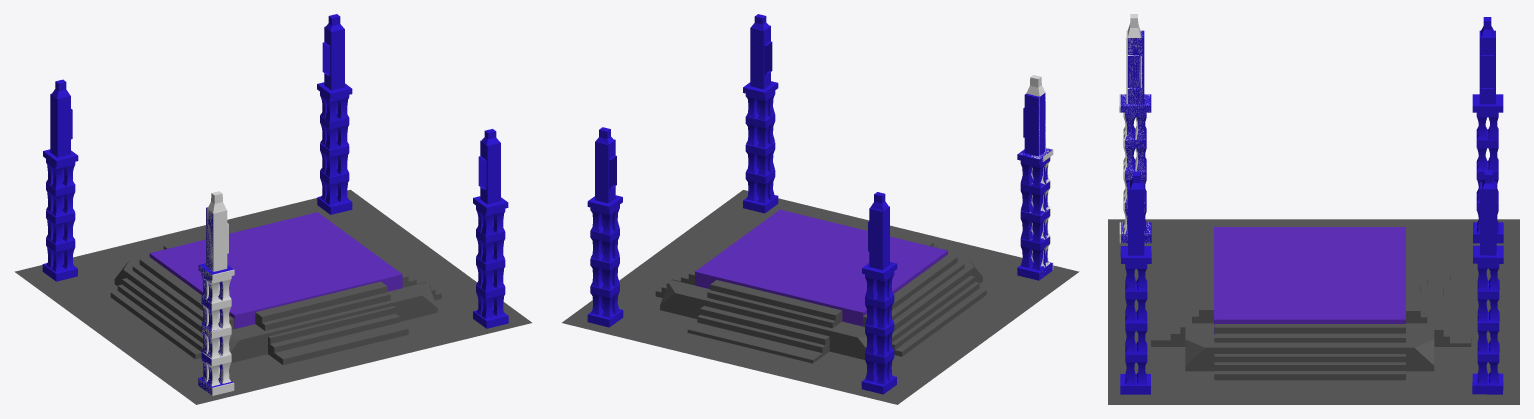
Rendered from BoxArenaWithColor.FBX.
3 views of the same model, side by side, from view 1: azimuth 30°, elevation 25°; view 2: azimuth 150°, elevation 25°; view 3: azimuth 270°, elevation 25° (orthographic). The views are drawn at different scales.
Visible parts, largest first — view 1: Plane001, Box002, Box001, Box010, Box009; view 2: Plane001, Box002, Box001, Box010, Box009; view 3: Plane001, Box002, Box001, Box010, Box009.
Boxes of the visible parts, x1,y1,x2,y2 form: Plane001: [14, 14, 531, 404]; Box002: [149, 212, 402, 328]; Box001: [114, 215, 437, 365]; Box010: [110, 214, 441, 359]; Box009: [42, 79, 78, 281]; Plane001: [562, 14, 1079, 404]; Box002: [695, 209, 947, 326]; Box001: [660, 212, 982, 363]; Box010: [655, 212, 986, 356]; Box009: [861, 192, 897, 394]; Plane001: [1108, 14, 1519, 404]; Box002: [1214, 226, 1405, 334]; Box001: [1151, 230, 1471, 371]; Box010: [1214, 225, 1405, 380]; Box009: [1472, 17, 1503, 243].
Size of the model in its own units: 160 by 89.94 by 150.
